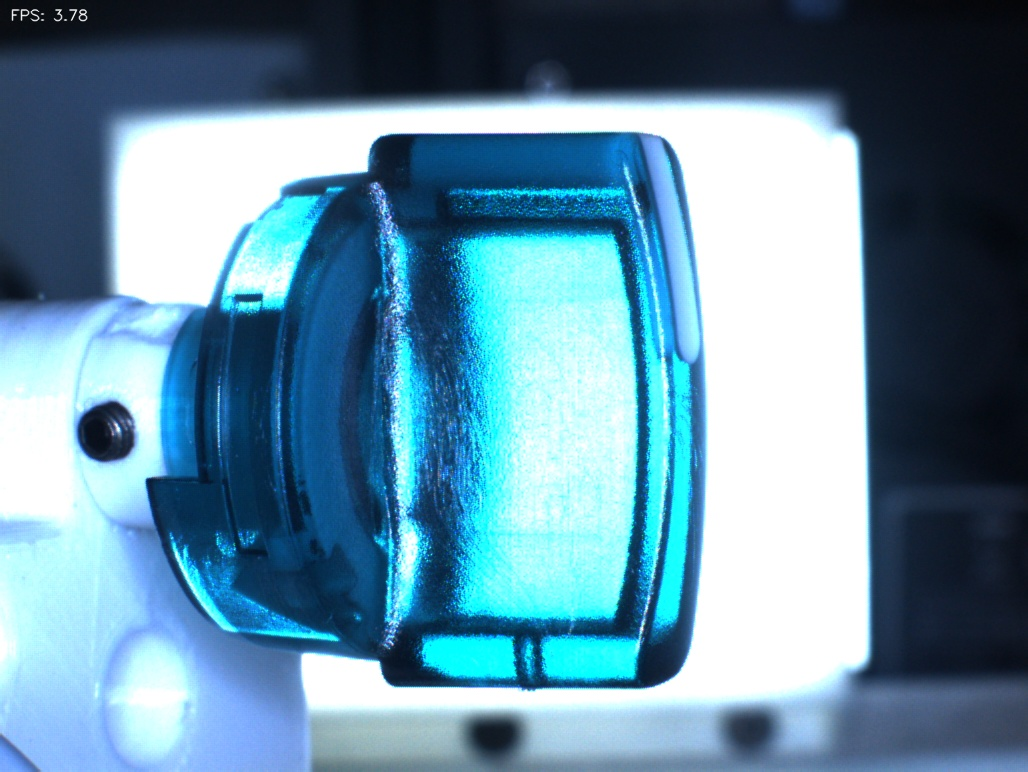Bulle: (488, 606, 574, 714)
